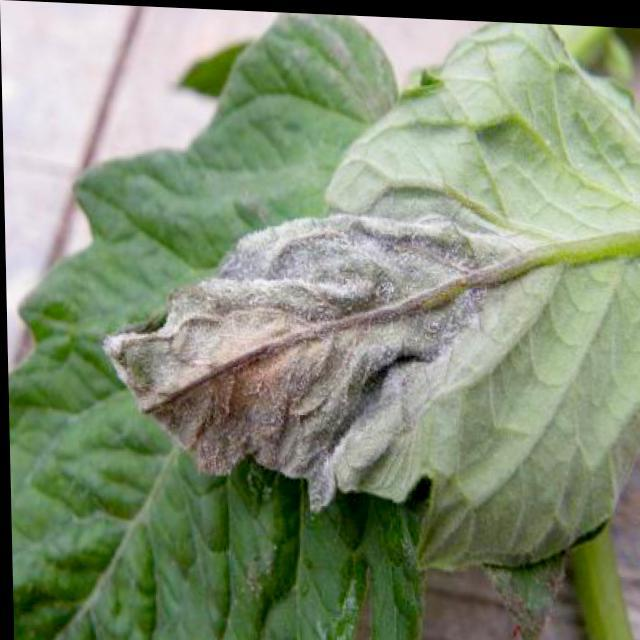Tomato mosaic virus leaf: (85, 2, 639, 578)
